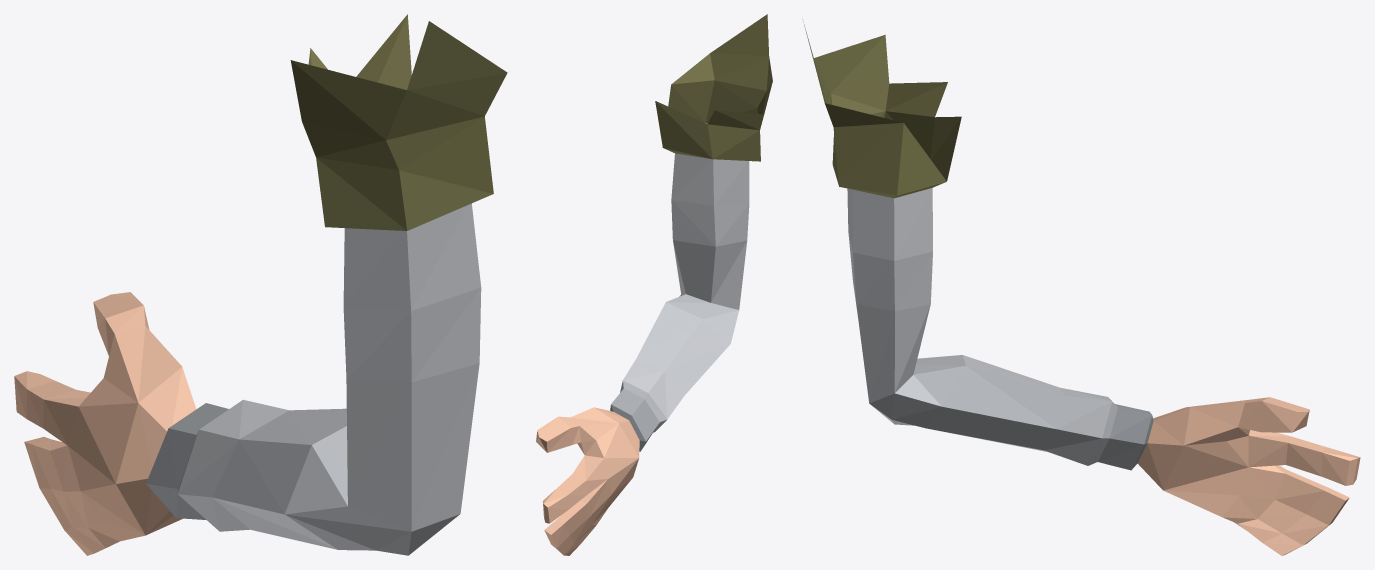
The model's file is Daughter_01_ArmL_72_01_A.obj.
The picture shows the model from 3 angles, left to right: view 1: azimuth 30°, elevation 25°; view 2: azimuth 150°, elevation 25°; view 3: azimuth 270°, elevation 25°; orthographic projection. The views are drawn at different scales.
Visible parts, largest first — view 1: Daughter_01_ArmL_72_01_A; view 2: Daughter_01_ArmL_72_01_A; view 3: Daughter_01_ArmL_72_01_A.
Boxes of the visible parts, x1=… form: Daughter_01_ArmL_72_01_A: x1=14, y1=14, x2=507, y2=555; Daughter_01_ArmL_72_01_A: x1=536, y1=14, x2=772, y2=555; Daughter_01_ArmL_72_01_A: x1=802, y1=19, x2=1360, y2=555.
Size of the model in its own units: 0.1622 by 0.6208 by 0.5901.
Materials: 1 (1 with a texture image).
